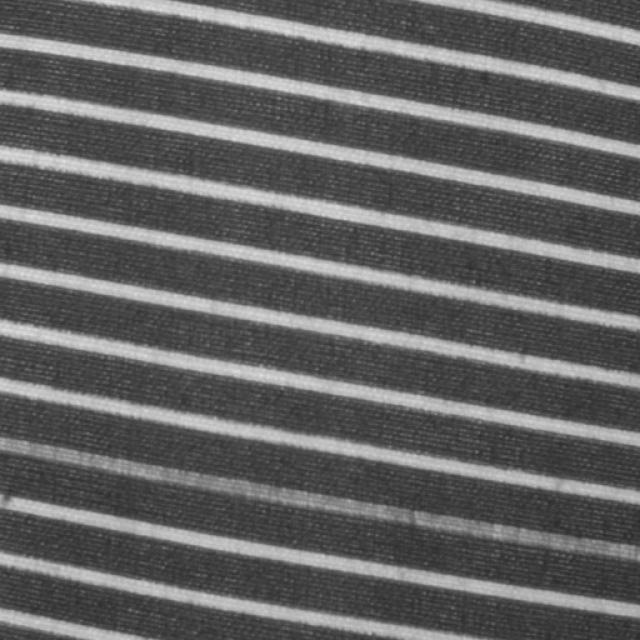Stain-Defect: (0, 396, 639, 619)
